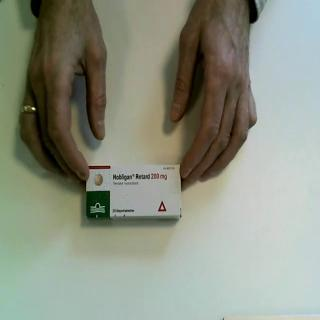nobligan_retard200mg: (84, 163, 184, 223)
